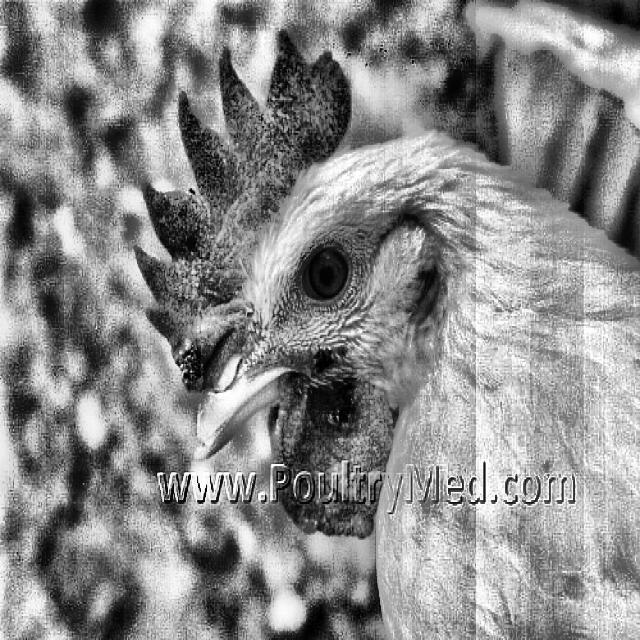Fowlpox: (166, 299, 370, 453)
